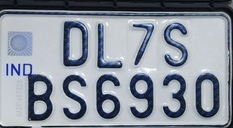0: (195, 72, 220, 118)
3: (162, 72, 189, 119)
6: (95, 73, 124, 120)
7: (128, 18, 157, 65)
9: (129, 71, 157, 120)
B: (27, 73, 55, 122)
D: (62, 20, 91, 69)
L: (95, 21, 123, 70)
S: (61, 72, 90, 121), (162, 21, 189, 67)
